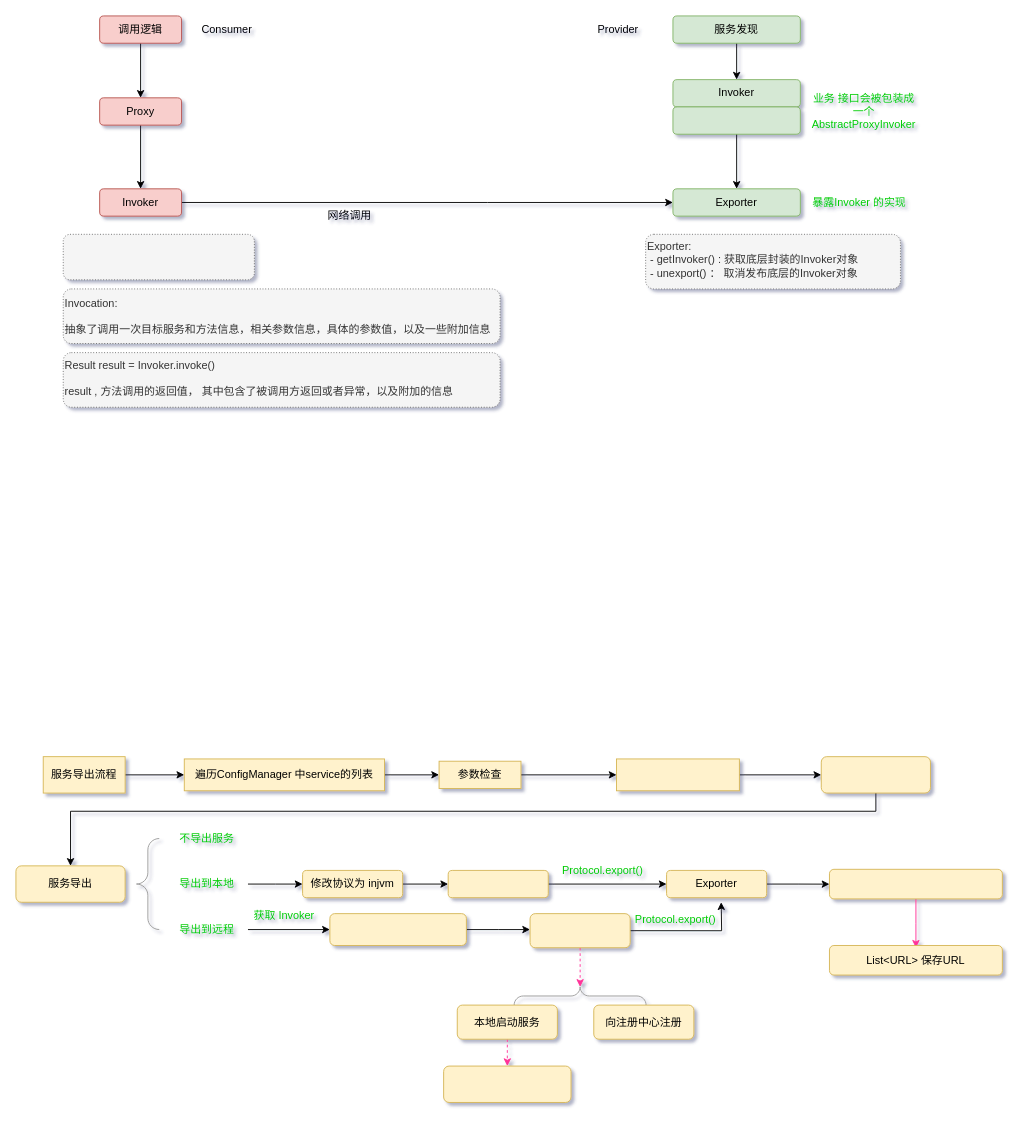
This 1024x1124 diagram has some shape labels left out. Here are the shapes that lost their labels. From the top down, the centre of each, then its label:
At pixel 736 120: "AbstractProxyInvoker".
At pixel 158 256: "Invoker : - getInterfacce() : 服务接口 - invoke(Invocation) ： 进行一次调用".
At pixel 677 774: "多协议注册中心导出".
At pixel 875 774: "构建公共契约URL".
At pixel 497 884: "包装为Invoker".
At pixel 915 883: "将exproter 添加到 List<Exporter>".
At pixel 397 929: "ProxyFactory.getInvoker()".
At pixel 579 930: "包装Invoker".
At pixel 507 1083: "DubboProtocol#export".
